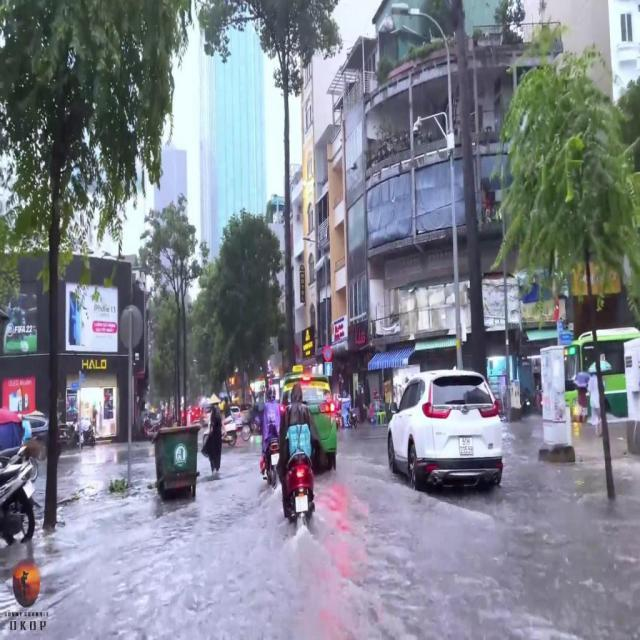407a-duong-mot-chieu: (324, 362, 332, 376)
